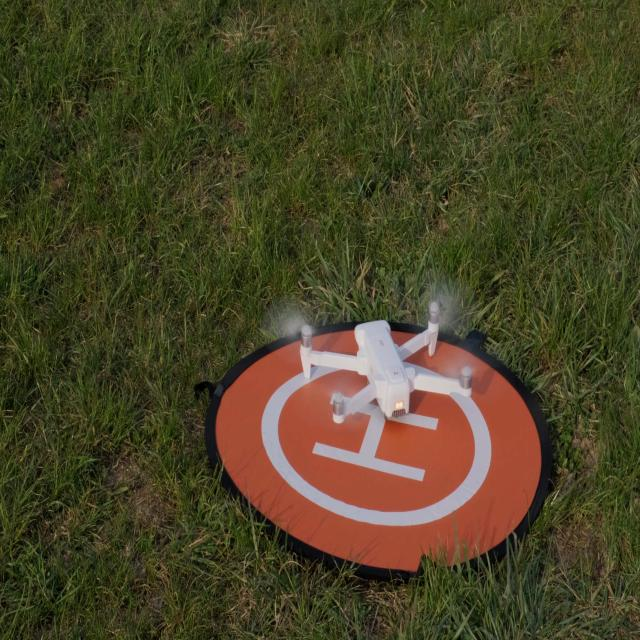drone: (264, 268, 491, 426)
